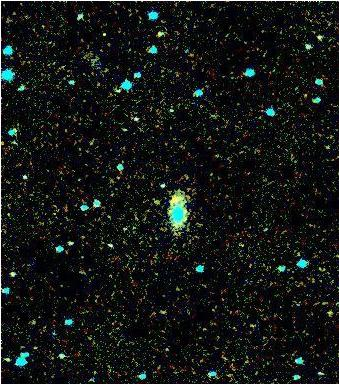star: (158, 185, 188, 215)
